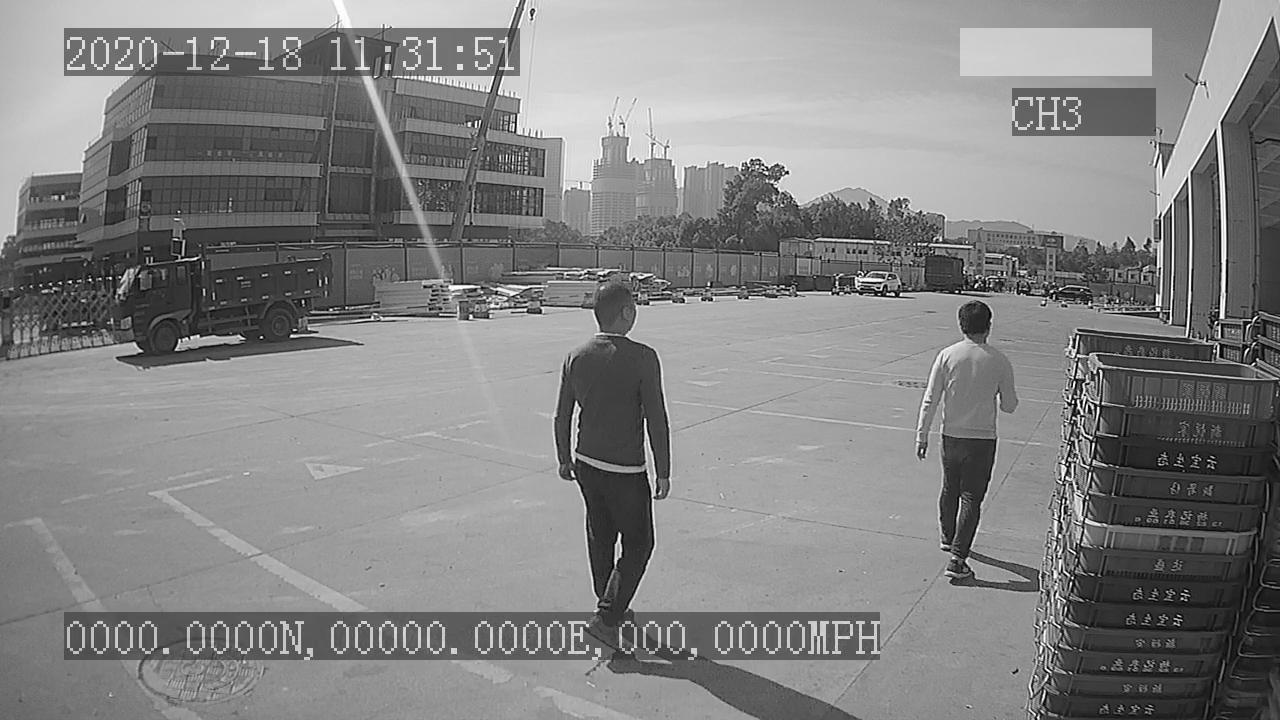person: (914, 293, 1019, 583)
